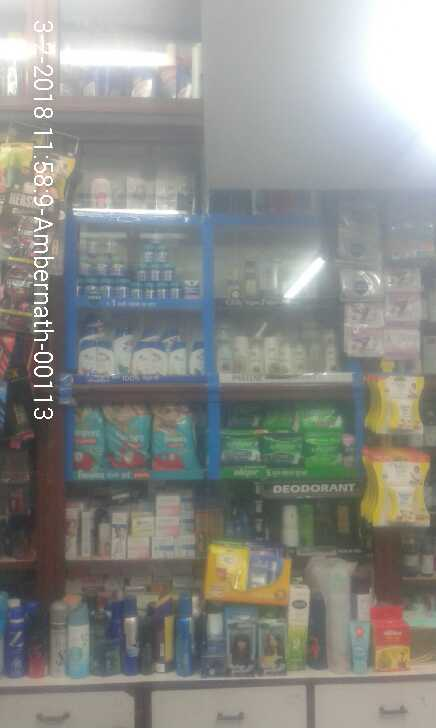pharmacy: (149, 406, 196, 475), (104, 404, 149, 471), (66, 403, 101, 474), (302, 431, 341, 471), (216, 432, 262, 463), (263, 432, 301, 468), (93, 253, 115, 279), (178, 281, 201, 299), (155, 279, 169, 302), (112, 255, 128, 275), (141, 241, 154, 264), (156, 241, 169, 263), (143, 280, 156, 302), (133, 260, 146, 281), (130, 279, 143, 299), (97, 280, 111, 298), (115, 281, 128, 300), (164, 261, 175, 279), (151, 264, 162, 281)
